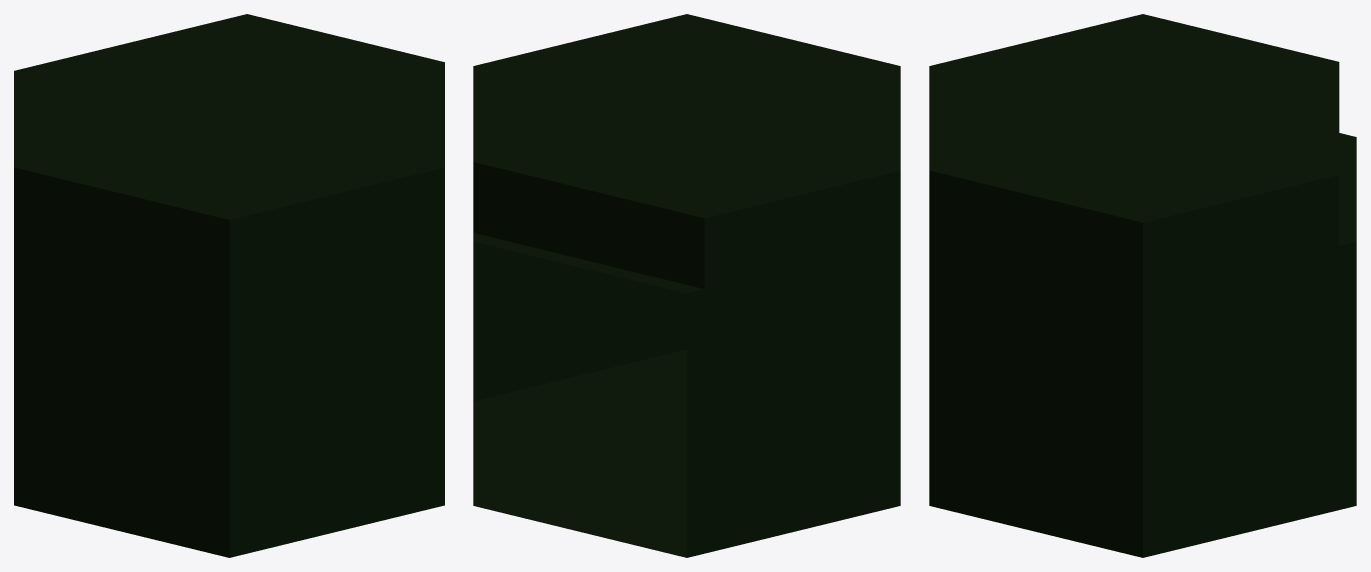
The model's file is elevator_box.fbx.
3 views of the same model, side by side, from view 1: azimuth 30°, elevation 25°; view 2: azimuth 150°, elevation 25°; view 3: azimuth 270°, elevation 25° (orthographic).
Parts seen in each view (by area): view 1: pCylinder757; view 2: pCylinder757; view 3: pCylinder757.
Part boxes in pixels (x1,y1,x2,y2): pCylinder757: (14,14,444,557); pCylinder757: (473,14,900,557); pCylinder757: (929,14,1356,557).
Size of the model in its own units: 322 by 241 by 279.
1 material, 1 textured.
